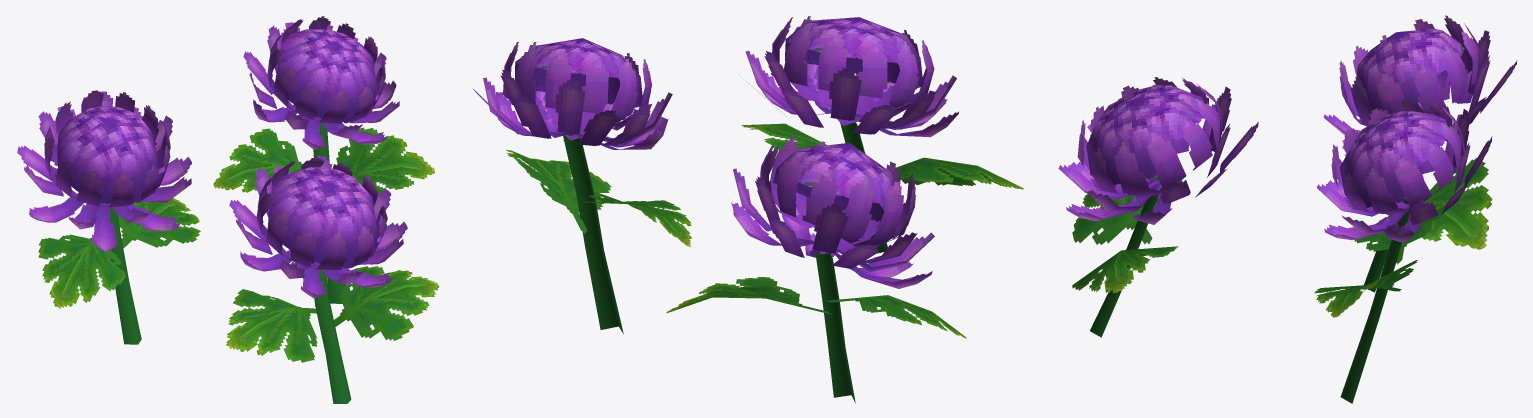
Rendered from purple-mums.glb.
3 views of the same model, side by side, from view 1: azimuth 30°, elevation 25°; view 2: azimuth 150°, elevation 25°; view 3: azimuth 270°, elevation 25° (orthographic). The views are drawn at different scales.
Size of the model in its own units: 9.99 by 6.47 by 9.28.
2 materials, 2 textured.
